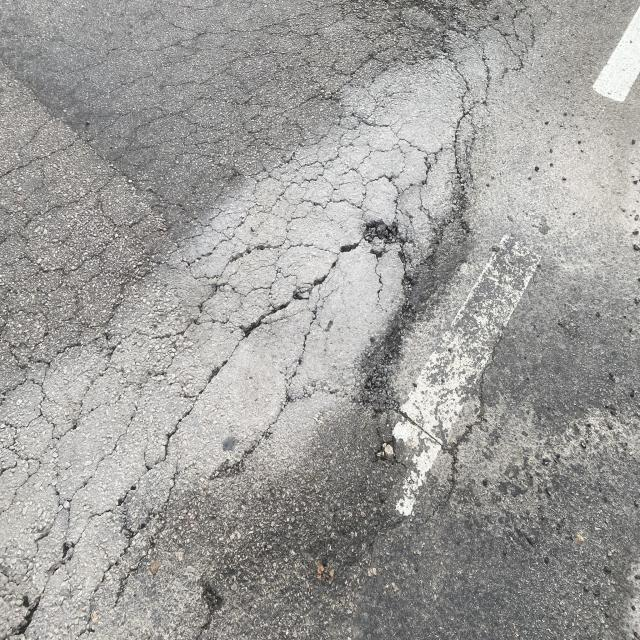pothole: (192, 53, 477, 511)
